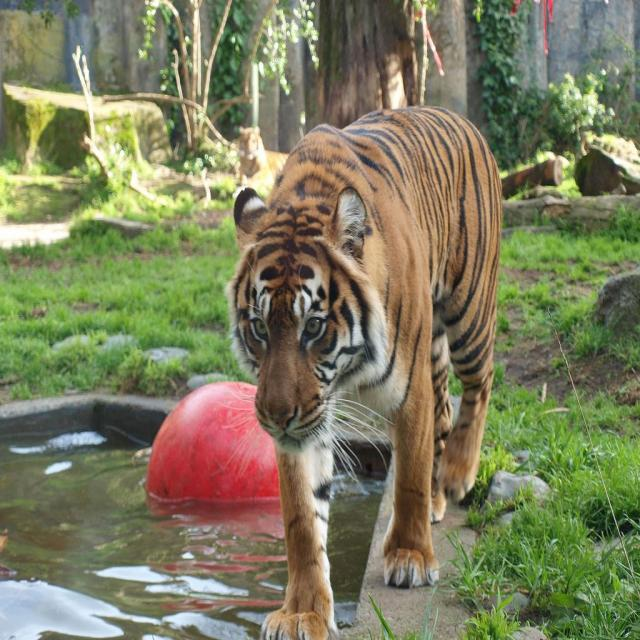Tiger: (212, 102, 501, 639)
